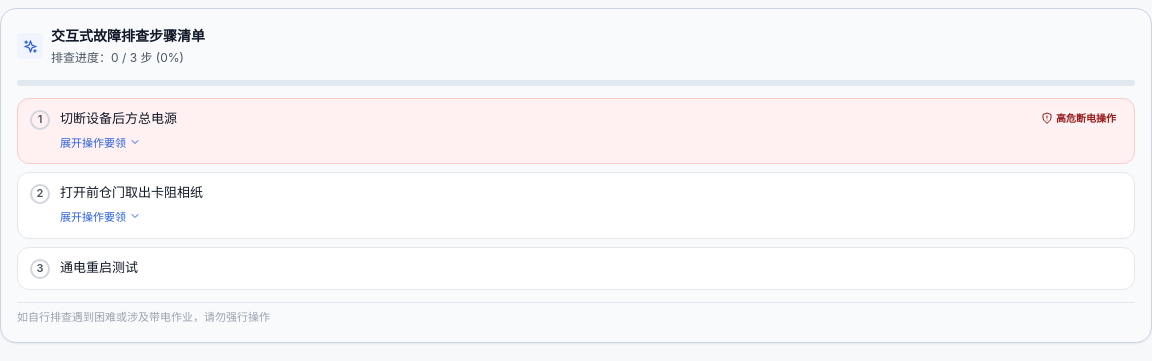
Test: Tier 1 & 2 Component: Interactive Checkbox Troubleshoot Card (F-09 / F-10) › T1-TRB-04: clicking reset resets all checked steps to unchecked
Click the checkbox labelled "1 切断设备后方总电源 高危断电操作 展开操作要领".
click(576, 131)  # box [17, 98, 1135, 164]
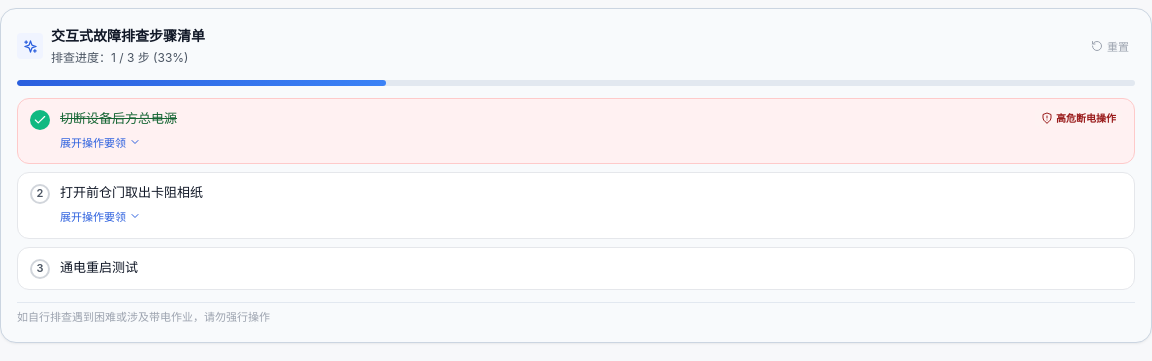
Click the checkbox labelled "2 打开前仓门取出卡阻相纸 展开操作要领".
click(576, 206)  # box [17, 172, 1135, 239]
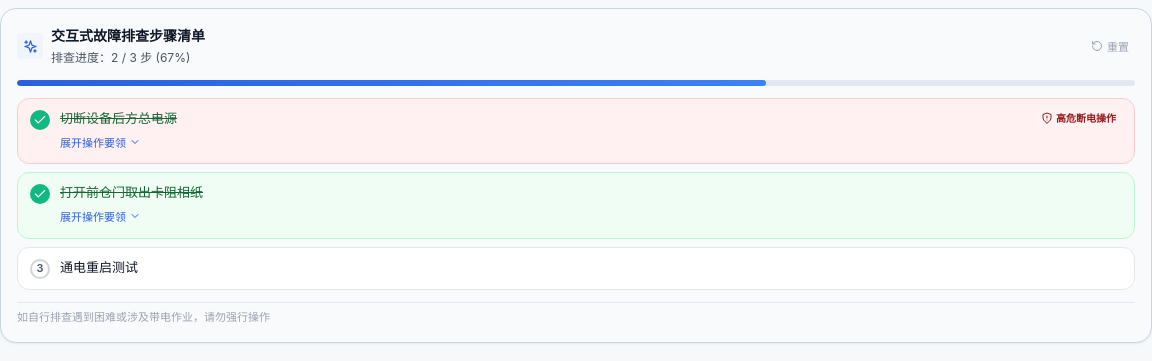
Now the text "排查进度：2 / 3 步 (67%)" is shown, box [51, 48, 205, 68]
Click the button titled "重置排查勾选".
click(1110, 46)  # box [1085, 36, 1135, 56]
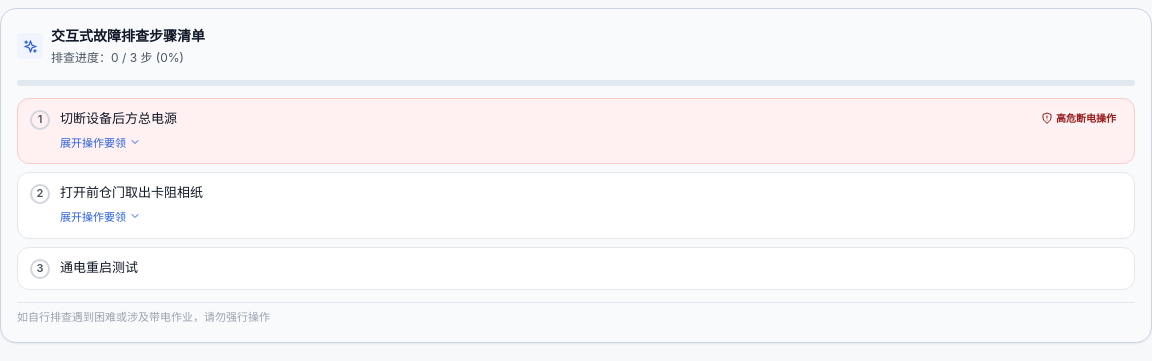
Now the text "排查进度：0 / 3 步 (0%)" is shown, box [51, 48, 205, 68]
